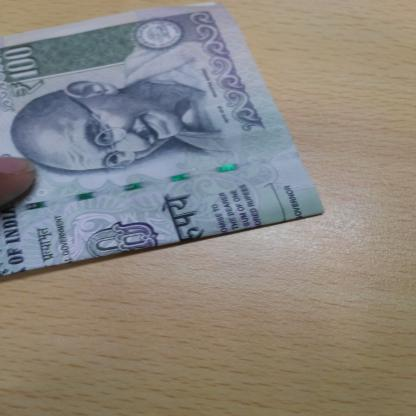Old100Front: (0, 0, 329, 280)
